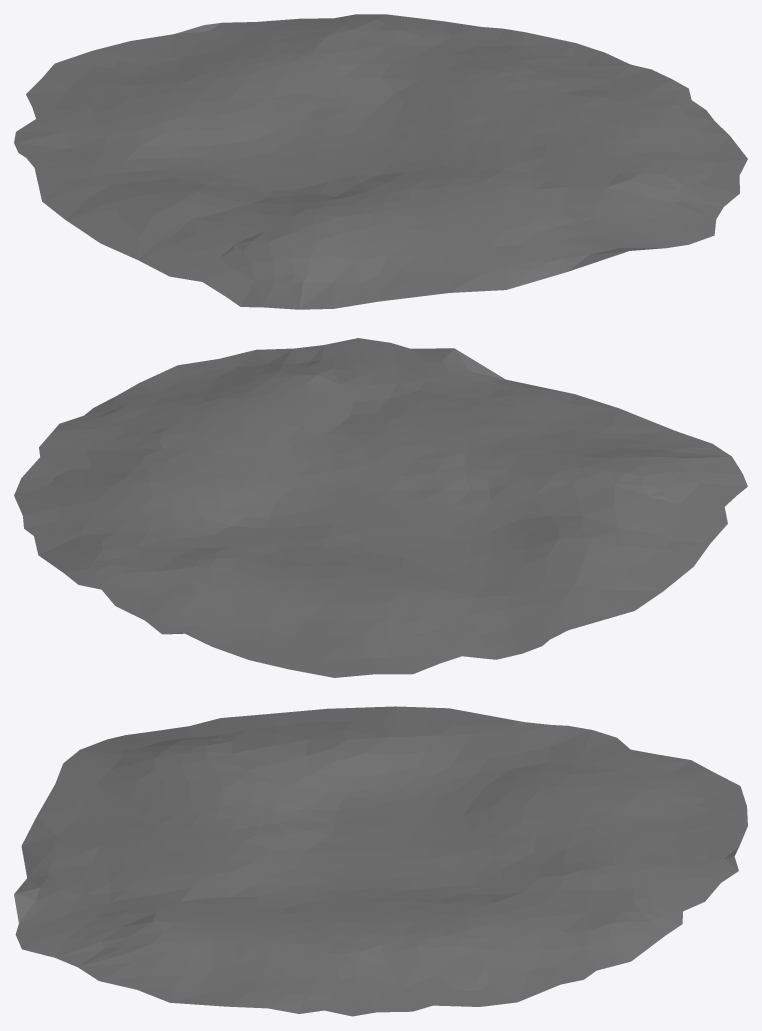
The model's file is SM_Gen_Env_Ground_Grass_Large_03.glb.
3 views of the same model, one above another, from view 1: azimuth 30°, elevation 25°; view 2: azimuth 150°, elevation 25°; view 3: azimuth 270°, elevation 25° (orthographic). The views are drawn at different scales.
Visible parts, largest first — view 1: SM_Gen_Env_Ground_Grass_Large_03; view 2: SM_Gen_Env_Ground_Grass_Large_03; view 3: SM_Gen_Env_Ground_Grass_Large_03.
Boxes of the visible parts, x1=… form: SM_Gen_Env_Ground_Grass_Large_03: x1=14, y1=14, x2=747, y2=309; SM_Gen_Env_Ground_Grass_Large_03: x1=14, y1=338, x2=747, y2=677; SM_Gen_Env_Ground_Grass_Large_03: x1=14, y1=706, x2=747, y2=1016.
Bounding box in the file's own units: 42.09 × 1.51 × 42.18.
1 material, 1 textured.
